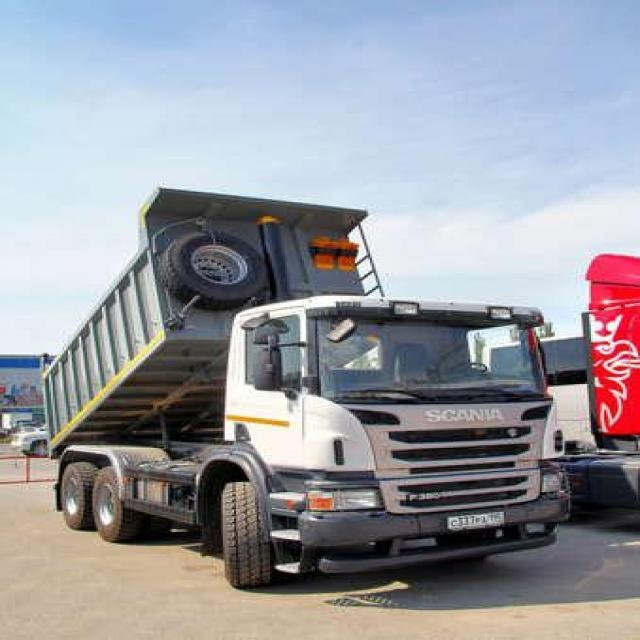machinery: (36, 182, 583, 590)
vehicle: (11, 424, 50, 458)
